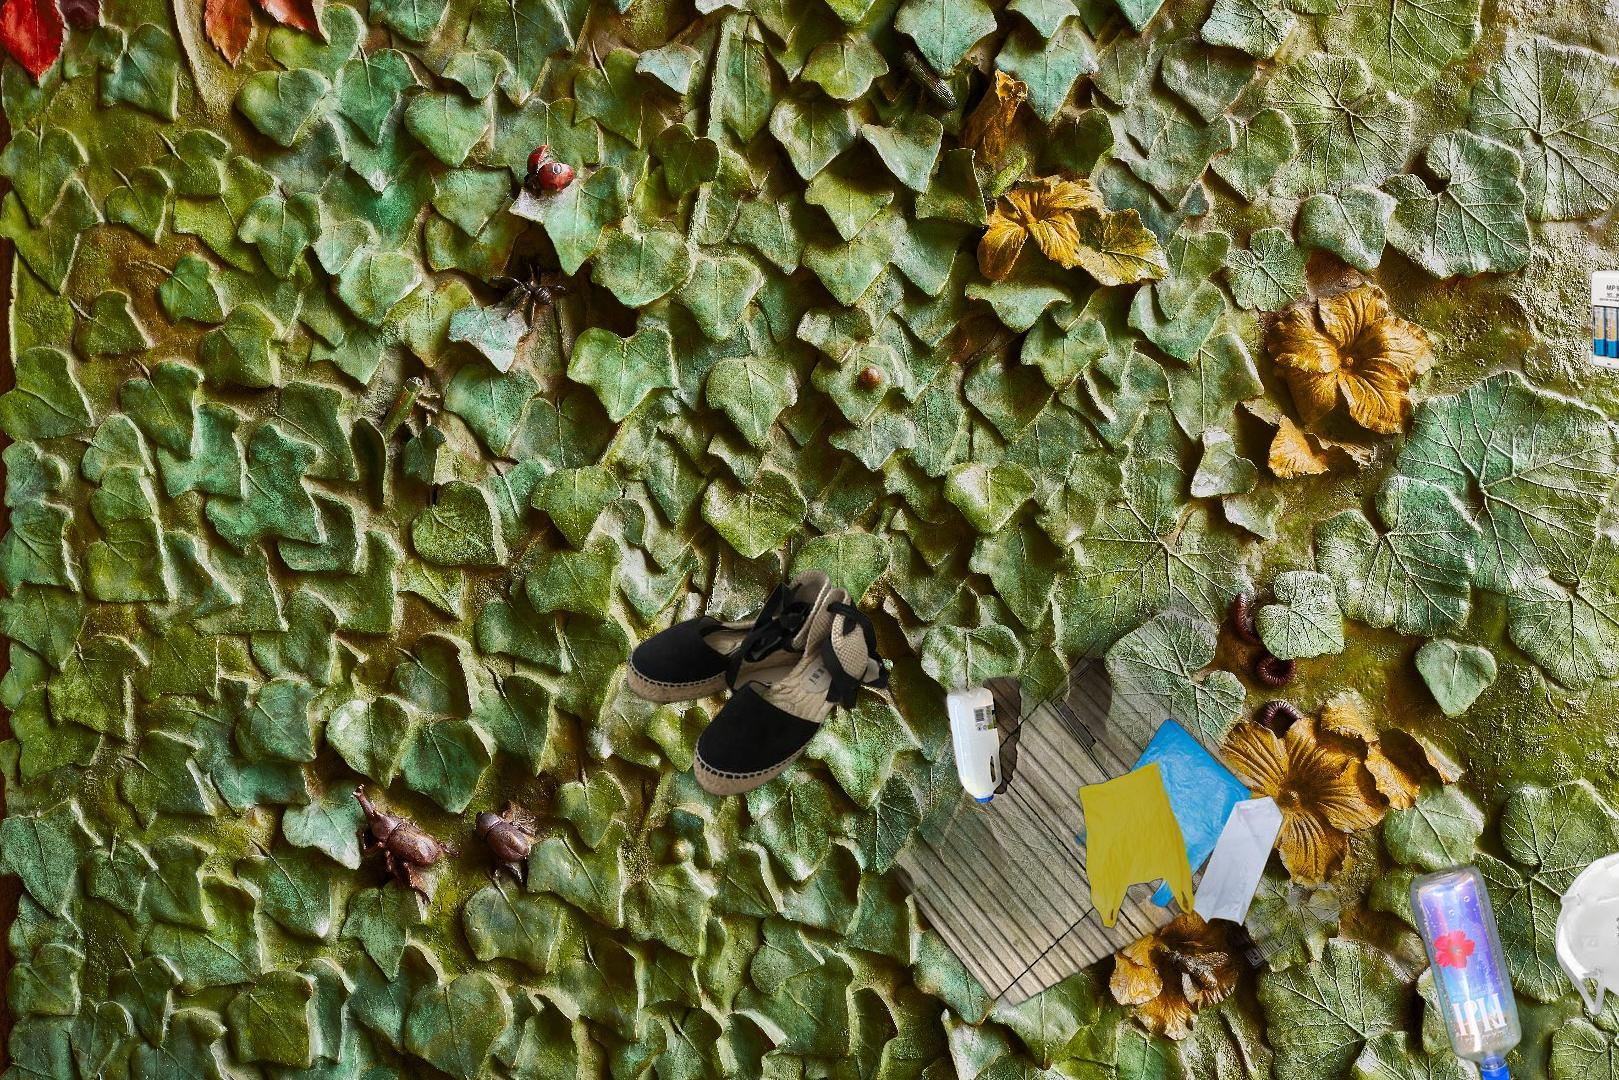battery: (1588, 268, 1619, 378)
plastic-bag: (1072, 717, 1287, 932)
plastic-bottles: (880, 380, 1392, 1063), (1404, 857, 1527, 1080)
shoes: (623, 438, 956, 802)
trash: (1551, 828, 1619, 1031)
